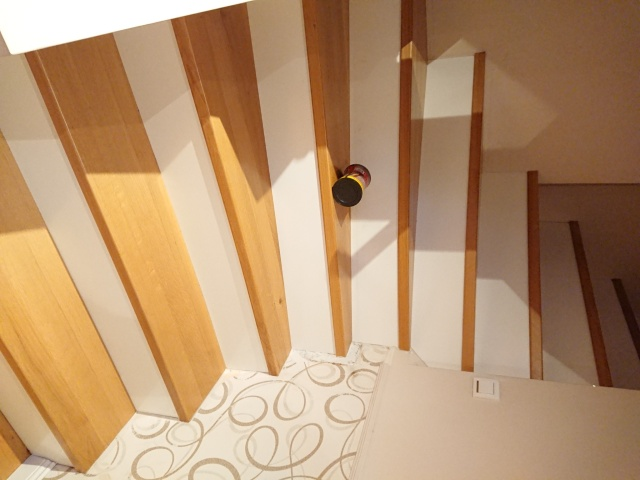Nescafe Classic 225g: (330, 161, 374, 209)
